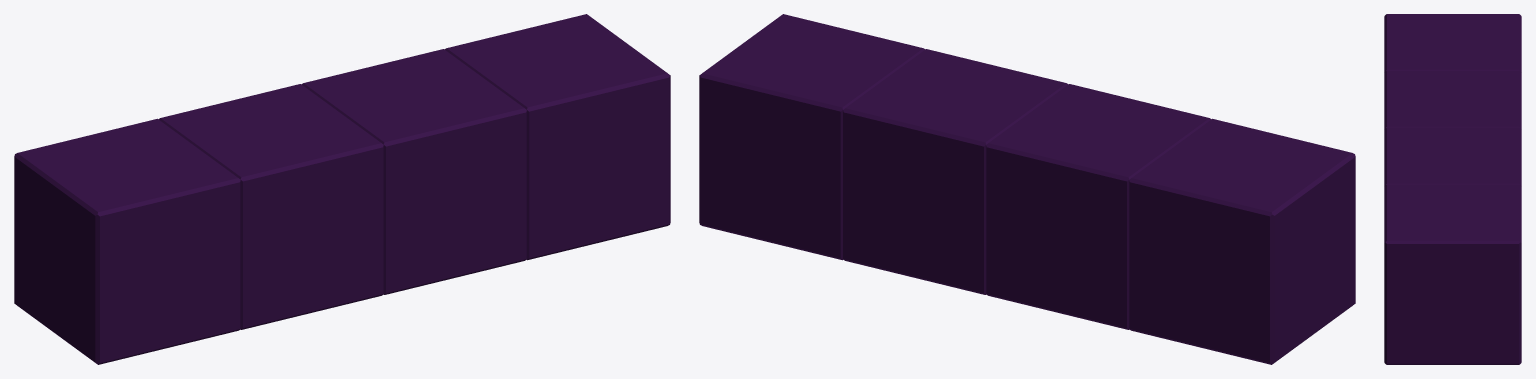
The model's file is PiecePurple.fbx.
3 views of the same model, side by side, from view 1: azimuth 30°, elevation 25°; view 2: azimuth 150°, elevation 25°; view 3: azimuth 270°, elevation 25° (orthographic). The views are drawn at different scales.
Parts seen in each view (by area): view 1: PiecePurple001; view 2: PiecePurple001; view 3: PiecePurple001.
Boxes of the visible parts, x1,y1,x2,y2 form: PiecePurple001: [14, 14, 670, 364]; PiecePurple001: [699, 14, 1355, 364]; PiecePurple001: [1384, 14, 1521, 364].
Bounding box in the file's own units: 36.18 × 9.18 × 9.18.
